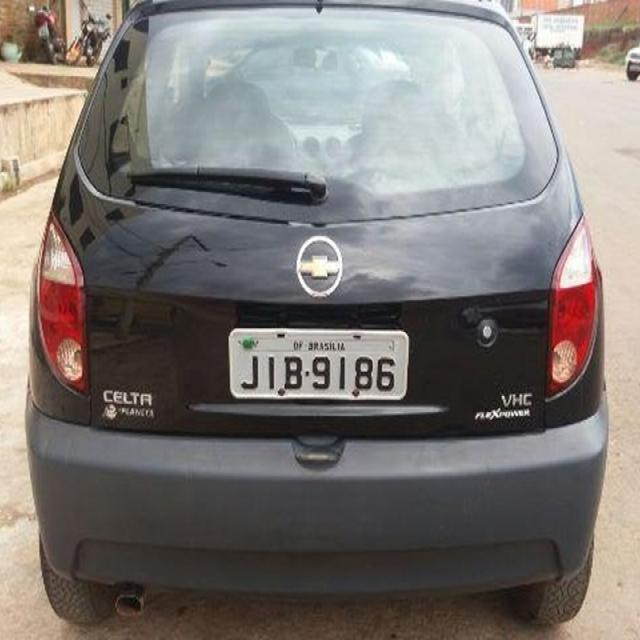Placa: (228, 321, 413, 408)
